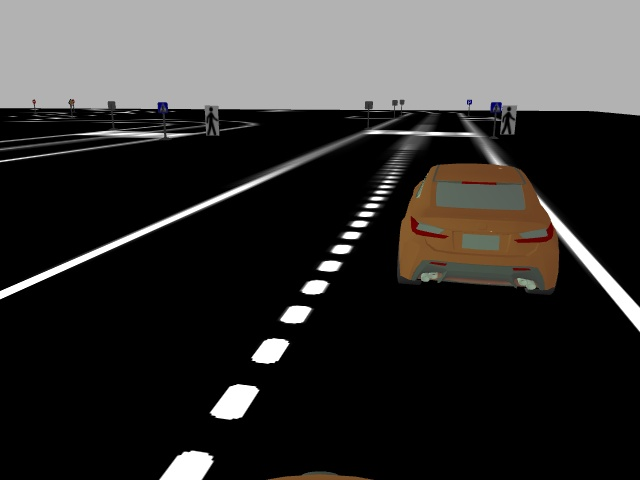obstacle_car: (395, 160, 562, 297)
pedestrian: (202, 103, 221, 139), (500, 103, 518, 137)
